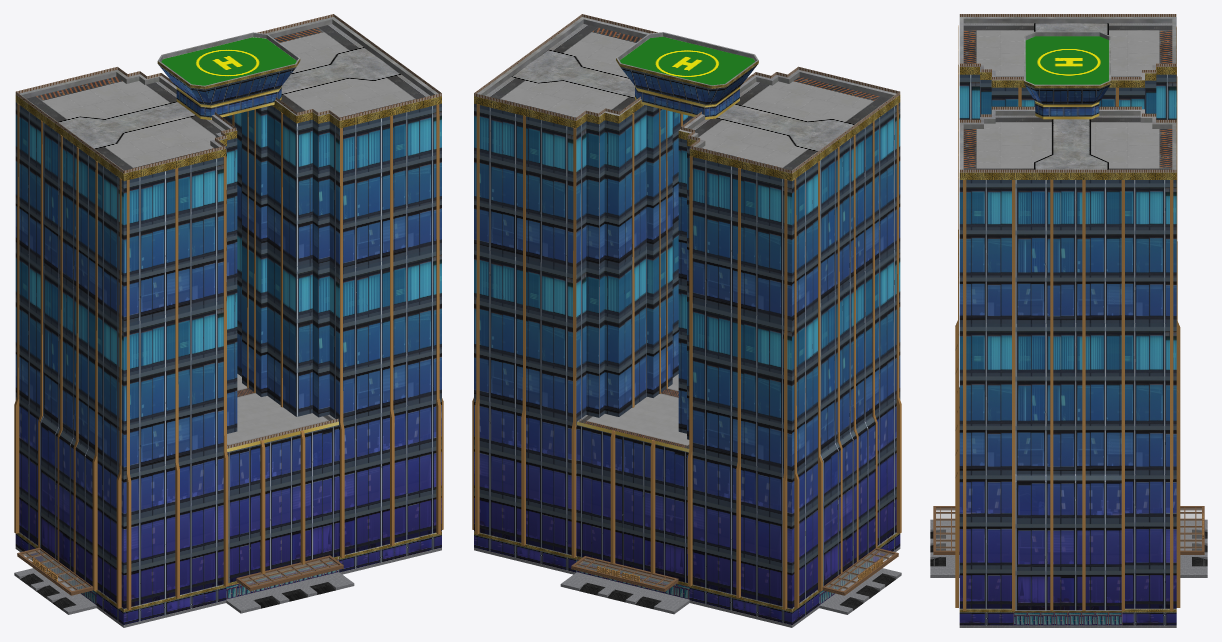
The model's file is VR_Game_Building.fbx.
The picture shows the model from 3 angles, left to right: view 1: azimuth 30°, elevation 25°; view 2: azimuth 150°, elevation 25°; view 3: azimuth 270°, elevation 25°; orthographic projection.
Parts seen in each view (by area): view 1: VR_Game_Building; view 2: VR_Game_Building; view 3: VR_Game_Building.
Boxes of the visible parts, x1,y1,x2,y2 form: VR_Game_Building: (14, 14, 443, 627); VR_Game_Building: (472, 14, 901, 627); VR_Game_Building: (930, 14, 1207, 627).
Size of the model in its own units: 12163 by 16284 by 8337.
